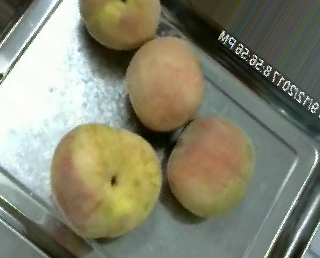Peach: (48, 122, 161, 240), (167, 114, 255, 219), (124, 35, 205, 131), (76, 0, 161, 49)
